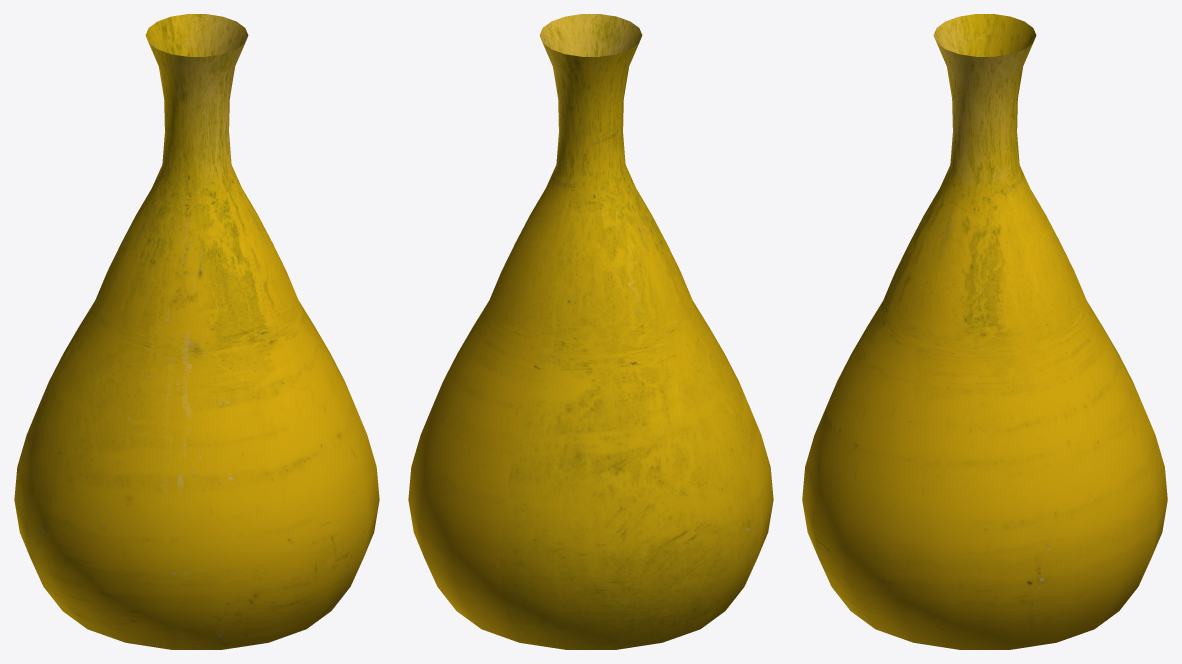
The model's file is jarronMovimiento.obj.
3 renders of one model, left to right at view 1: azimuth 30°, elevation 25°; view 2: azimuth 150°, elevation 25°; view 3: azimuth 270°, elevation 25°, orthographic.
Visible parts, largest first — view 1: polySurface522 polySurface17; view 2: polySurface522 polySurface17; view 3: polySurface522 polySurface17.
Boxes of the visible parts, left/top/right/bottom form: polySurface522 polySurface17: left=14, top=14, right=379, bottom=649; polySurface522 polySurface17: left=408, top=14, right=773, bottom=649; polySurface522 polySurface17: left=802, top=14, right=1167, bottom=649.
Bounding box in the file's own units: 0.1477 × 0.2513 × 0.15.
Materials: 1 (1 with a texture image).
